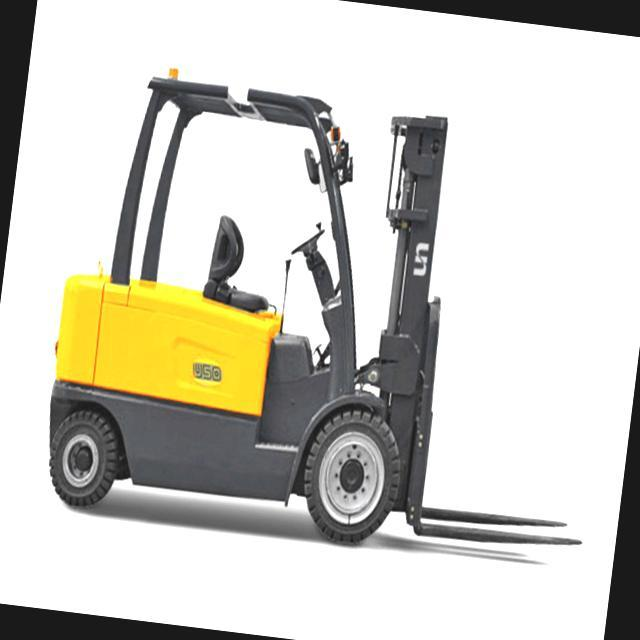forklift: (15, 39, 480, 562)
